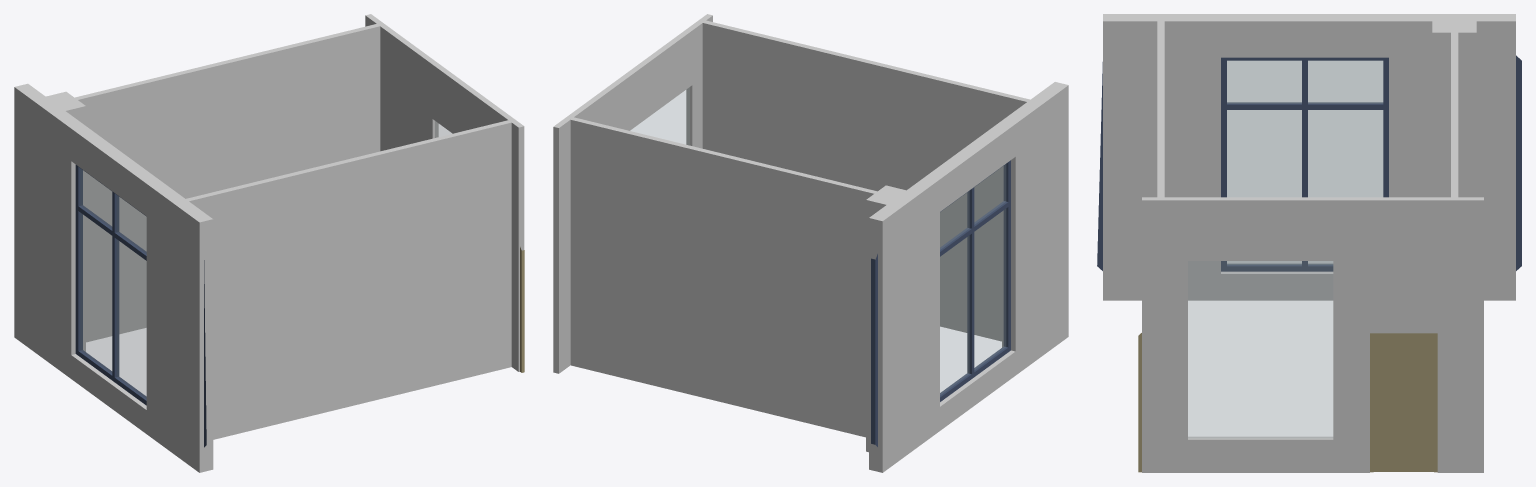
Rendered from JSOffice.glb.
3 renders of one model, left to right at view 1: azimuth 30°, elevation 25°; view 2: azimuth 150°, elevation 25°; view 3: azimuth 270°, elevation 25°, orthographic. The views are drawn at different scales.
Visible parts, largest first — view 1: JS_Office; view 2: JS_Office; view 3: JS_Office.
Boxes of the visible parts, bbox=[...] form: JS_Office: bbox=[14, 14, 524, 472]; JS_Office: bbox=[553, 14, 1068, 472]; JS_Office: bbox=[1097, 14, 1521, 472].
Bounding box in the file's own units: 6.01 × 4.2 × 5.79.
